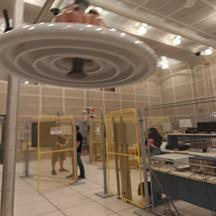insulator: (0, 2, 156, 96)
